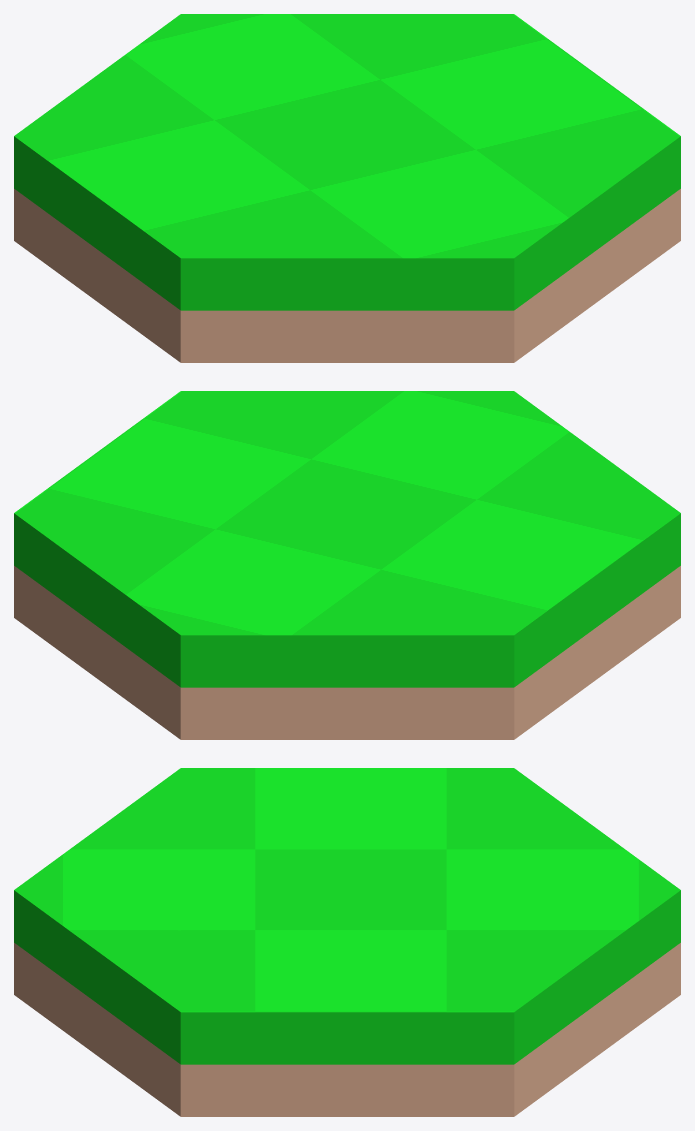
Rendered from grass.fbx.
3 views of the same model, one above another, from view 1: azimuth 30°, elevation 25°; view 2: azimuth 150°, elevation 25°; view 3: azimuth 270°, elevation 25° (orthographic).
Parts seen in each view (by area): view 1: grass; view 2: grass; view 3: grass.
Boxes of the visible parts, bbox=[...] form: grass: bbox=[14, 14, 680, 362]; grass: bbox=[14, 391, 680, 739]; grass: bbox=[14, 768, 680, 1116].
Size of the model in its own units: 100 by 20 by 115.
Materials: 2 (1 with a texture image).
